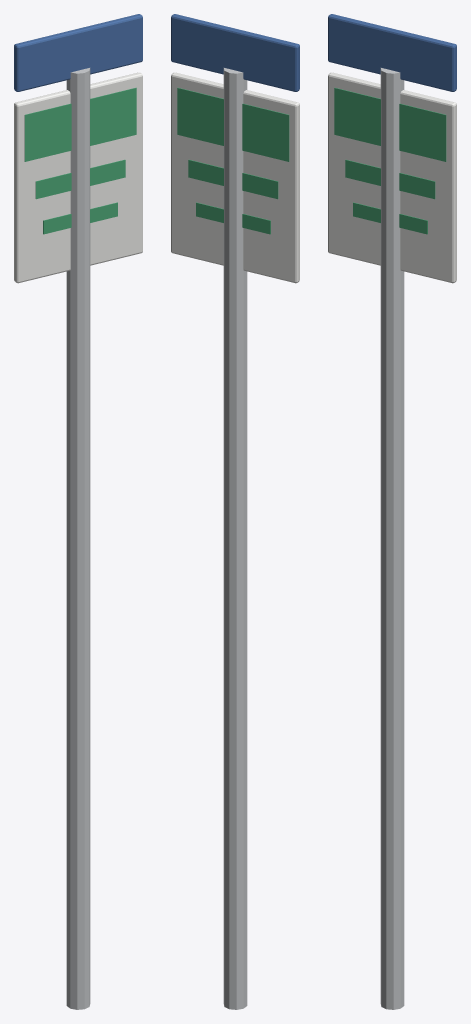
Rendered from parking_sign.glb.
3 renders of one model, left to right at view 1: azimuth 30°, elevation 25°; view 2: azimuth 150°, elevation 25°; view 3: azimuth 330°, elevation 25°, orthographic.
Visible parts, largest first — view 1: parking_sign; view 2: parking_sign; view 3: parking_sign.
Boxes of the visible parts, x1=… form: parking_sign: x1=14, y1=14, x2=142, y2=1009; parking_sign: x1=171, y1=14, x2=299, y2=1009; parking_sign: x1=328, y1=14, x2=456, y2=1009.
Bounding box in the file's own units: 0.34 × 2.5 × 0.056.
